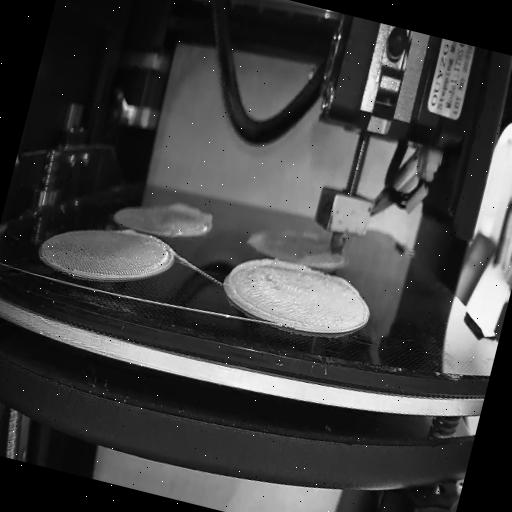over_extrusion: (220, 248, 318, 328), (166, 199, 216, 230), (328, 271, 362, 298), (314, 250, 346, 272), (120, 225, 140, 238)
